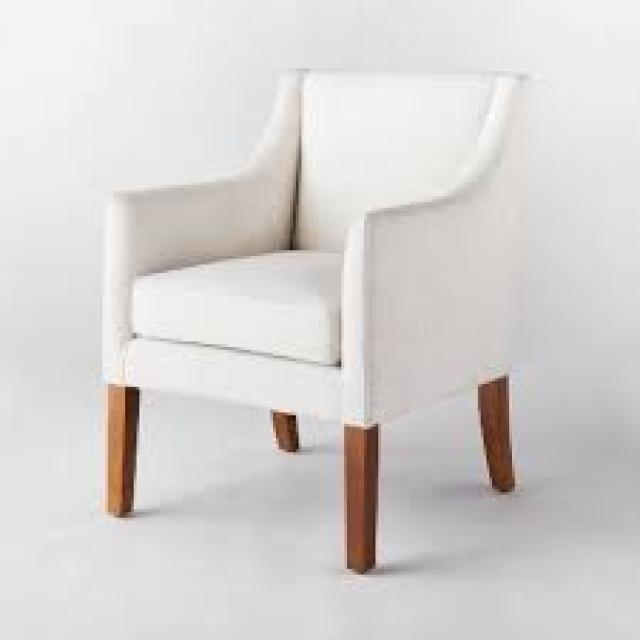chair: (65, 18, 554, 606)
